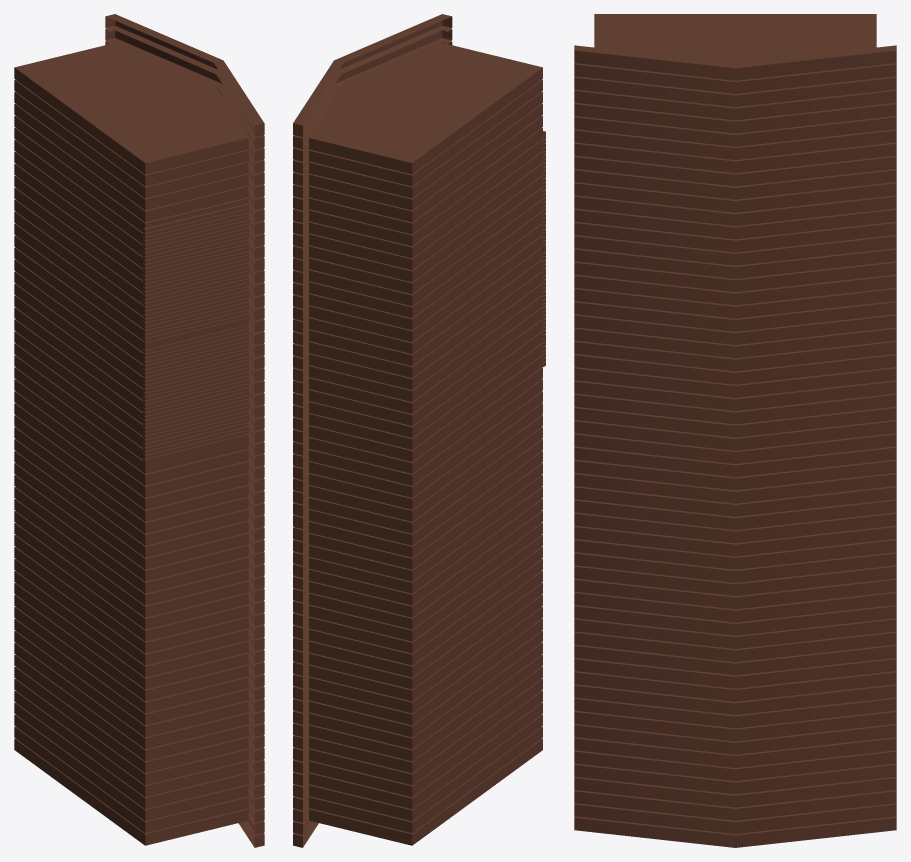
The model's file is Galpao02.FBX.
3 views of the same model, side by side, from view 1: azimuth 30°, elevation 25°; view 2: azimuth 150°, elevation 25°; view 3: azimuth 270°, elevation 25° (orthographic). The views are drawn at different scales.
Visible parts, largest first — view 1: Object006; view 2: Object006; view 3: Object006.
Part boxes in pixels (x1,y1,x2,y2): Object006: (14,14,264,847); Object006: (293,14,545,847); Object006: (574,14,896,847).
Size of the model in its own units: 43.93 by 209 by 78.37.
